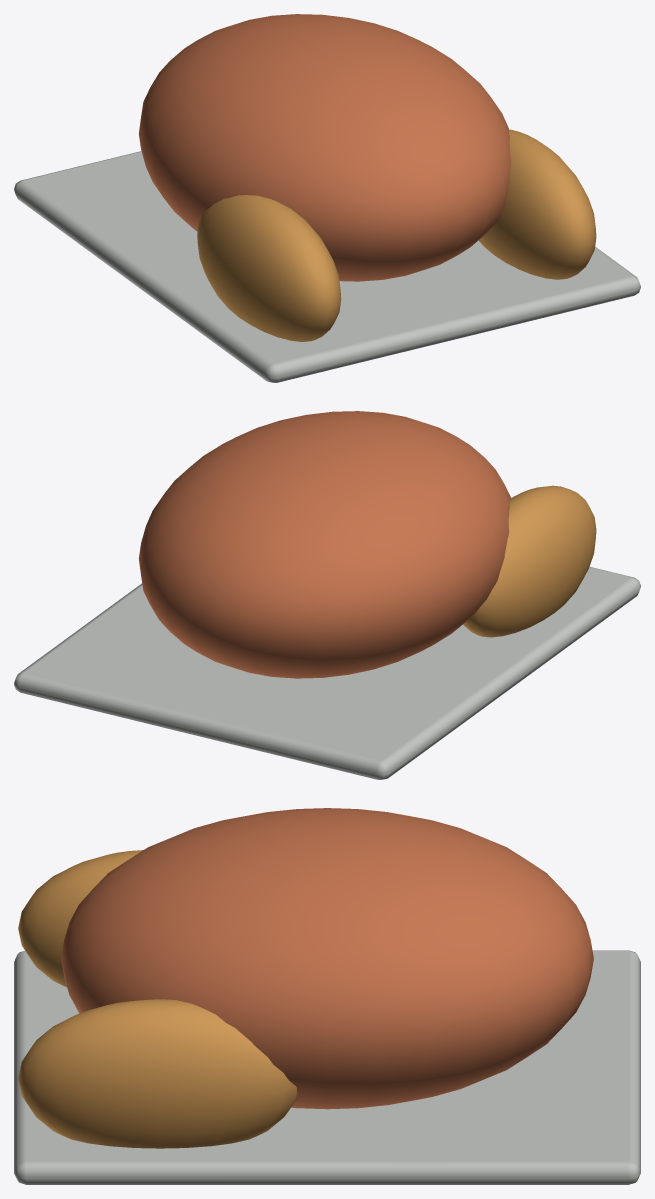
Rendered from adventurers-tavern-and-guild-hall-roast-bird-27139eb2__24722.glb.
3 views of the same model, one above another, from view 1: azimuth 30°, elevation 25°; view 2: azimuth 150°, elevation 25°; view 3: azimuth 270°, elevation 25° (orthographic). The views are drawn at different scales.
Visible parts, largest first — view 1: roast-bird; view 2: roast-bird; view 3: roast-bird.
Part boxes in pixels (<box>): roast-bird: <box>14,14,640,382</box>; roast-bird: <box>14,411,640,779</box>; roast-bird: <box>14,808,640,1184</box>.
Size of the model in its own units: 0.5 by 0.255 by 0.6.
